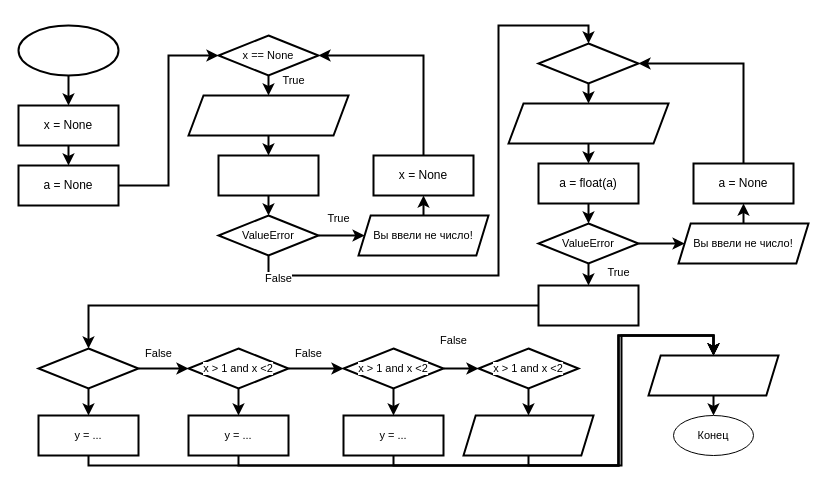
Image size: 826x491. Some labels were removed from this diagram. Each missing label, with the box of its shape:
a = input('Ввдети число a: '): (507, 102, 669, 144)
a == None: (537, 42, 639, 84)
x < 1: (37, 347, 139, 389)
x = float(x): (217, 154, 319, 196)
x = input('Ввдети число х: '): (187, 94, 349, 136)
x, a, y: (647, 354, 779, 396)
y = None: (537, 284, 639, 326)
Начало: (17, 24, 119, 76)
Функция не задана: (462, 414, 594, 456)
